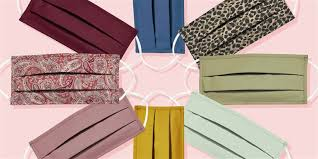cloth_mask: (185, 56, 318, 108)
